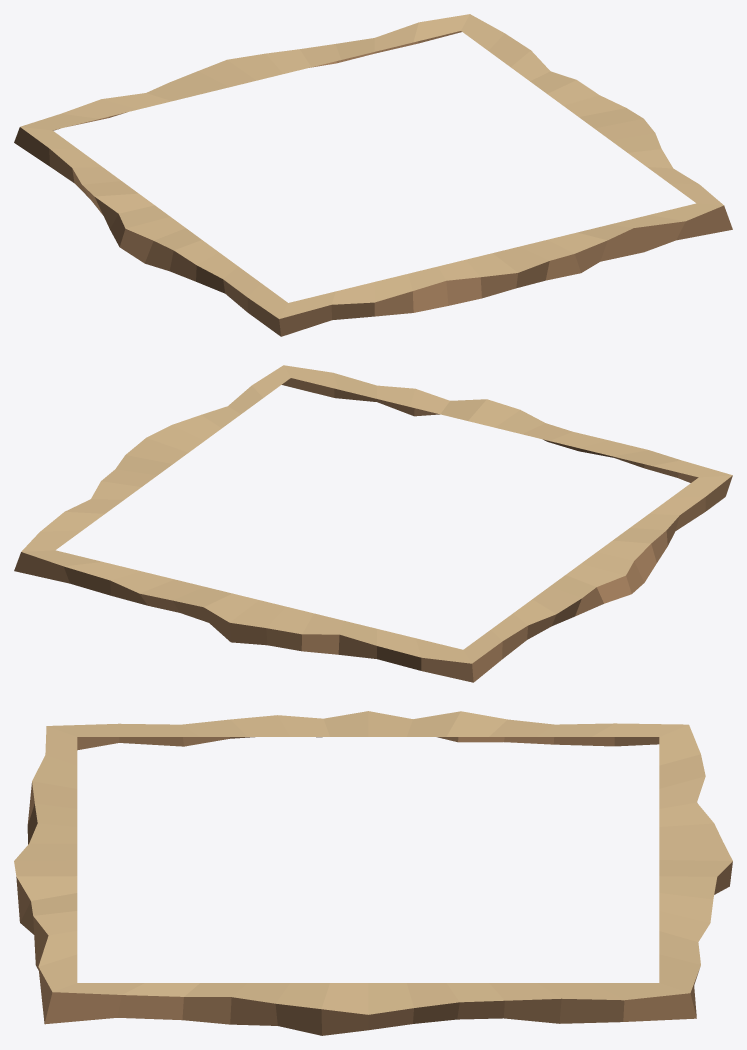
The model's file is entorno_18.glb.
The picture shows the model from 3 angles, top to bottom: view 1: azimuth 30°, elevation 25°; view 2: azimuth 150°, elevation 25°; view 3: azimuth 270°, elevation 25°; orthographic projection. The views are drawn at different scales.
Parts seen in each view (by area): view 1: deserto_entorno_18; view 2: deserto_entorno_18; view 3: deserto_entorno_18.
Boxes of the visible parts, x1=… form: deserto_entorno_18: x1=14, y1=14, x2=732, y2=336; deserto_entorno_18: x1=14, y1=365, x2=732, y2=682; deserto_entorno_18: x1=14, y1=711, x2=732, y2=1035.
Size of the model in its own units: 22.6 by 1.07 by 22.49.
